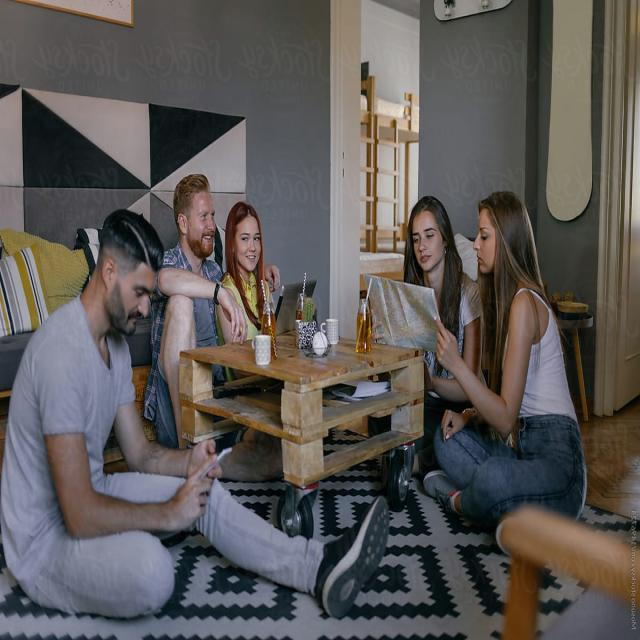adult: (0, 209, 390, 640), (422, 186, 586, 528), (141, 173, 252, 453), (399, 194, 481, 442), (214, 200, 282, 344)
